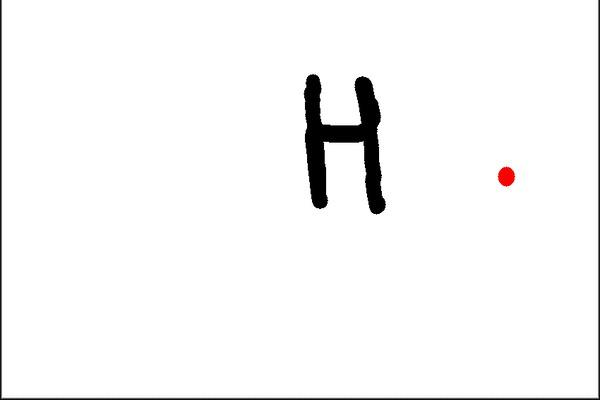H: (296, 67, 393, 219)
